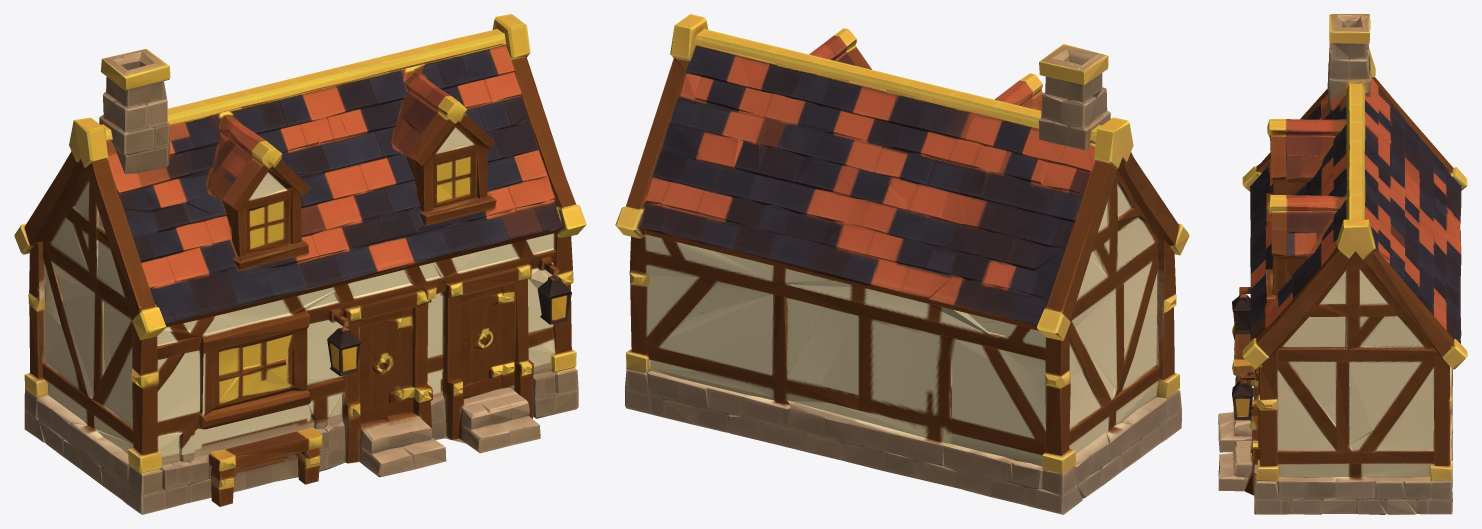
The model's file is TWN_STR_house_long_A.glb.
The picture shows the model from 3 angles, left to right: view 1: azimuth 30°, elevation 25°; view 2: azimuth 150°, elevation 25°; view 3: azimuth 270°, elevation 25°; orthographic projection. The views are drawn at different scales.
Visible parts, largest first — view 1: Mesh_0; view 2: Mesh_0; view 3: Mesh_0.
Boxes of the visible parts, box(x1,y1,x2,y2) form: Mesh_0: box(14, 14, 586, 514); Mesh_0: box(615, 14, 1189, 514); Mesh_0: box(1218, 14, 1467, 514).
Bounding box in the file's own units: 1.9 × 1.66 × 1.11.
1 material, 1 textured.
